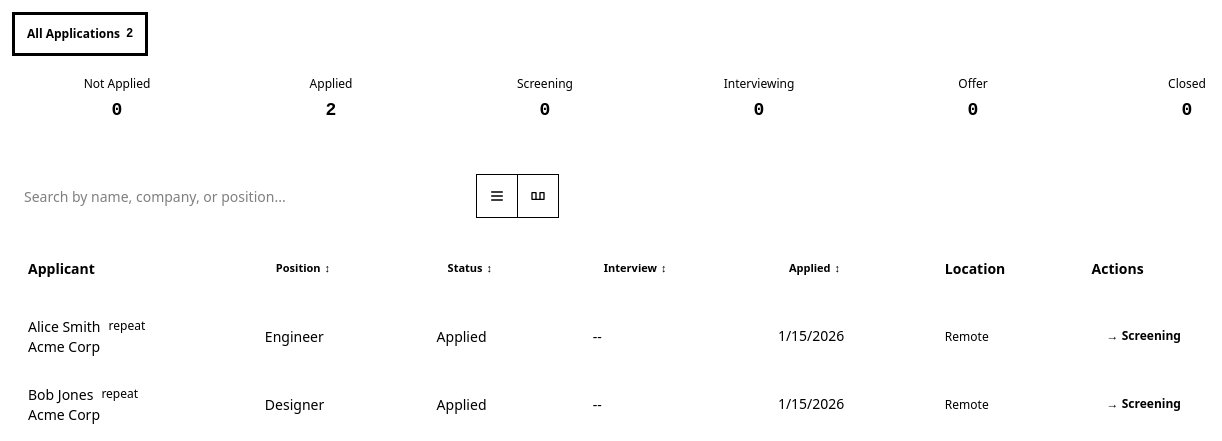
Test: EmployerDashboard › filters by search query
This screenshot has width=1222, height=441.
Type "alice" into the search field named "Search applications" at (236, 196), box [12,174,460,218]
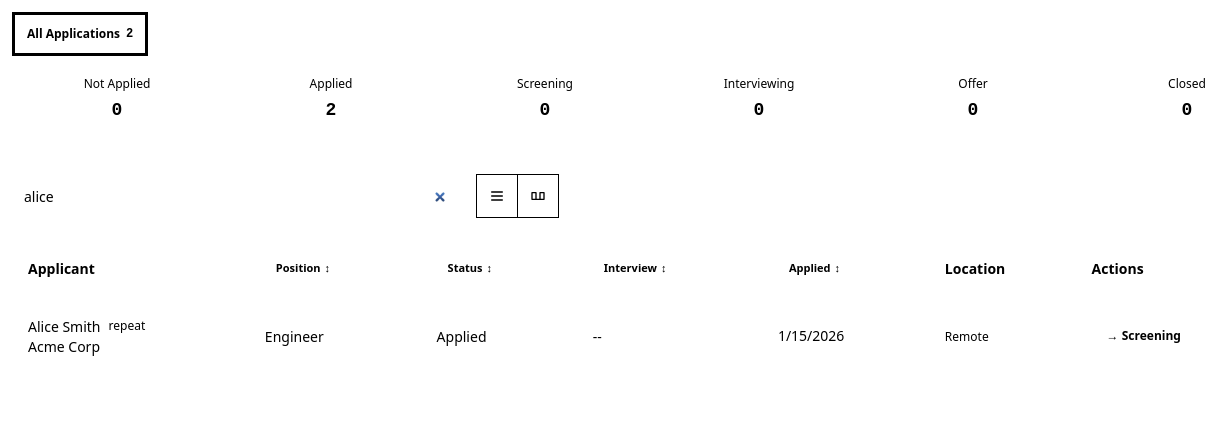
Expected: the text "Alice Smith" is shown, [28,316,100,336]
Expected: the text "Bob Jones" is gone
